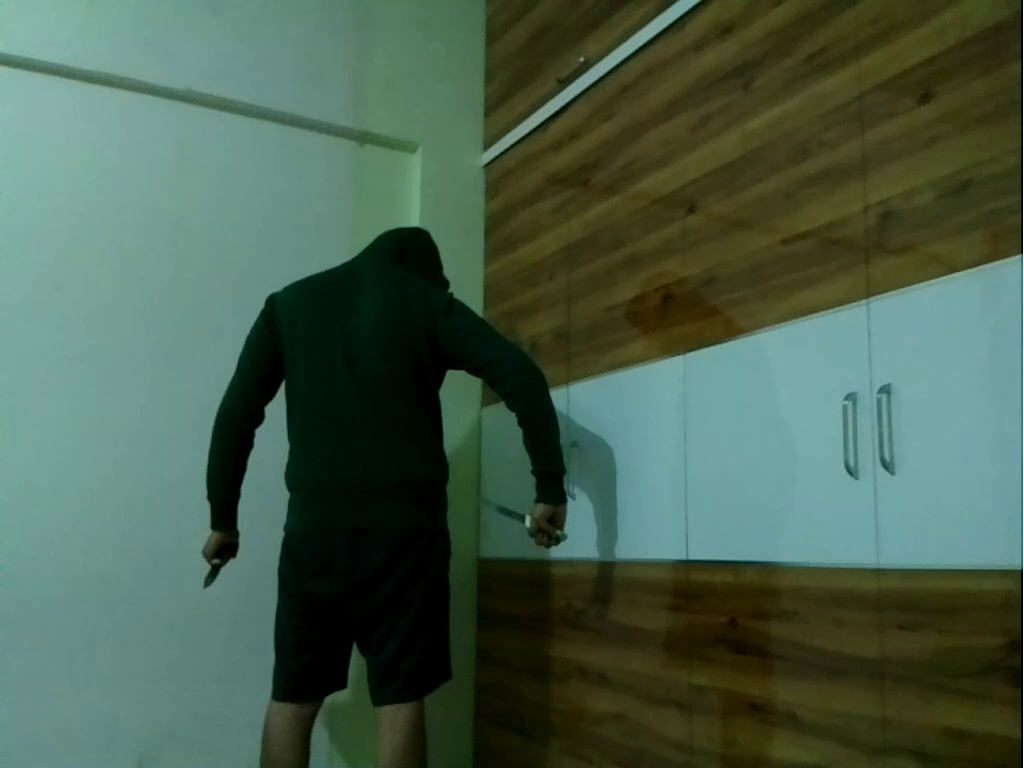knife: (475, 491, 562, 536), (197, 541, 241, 599)
